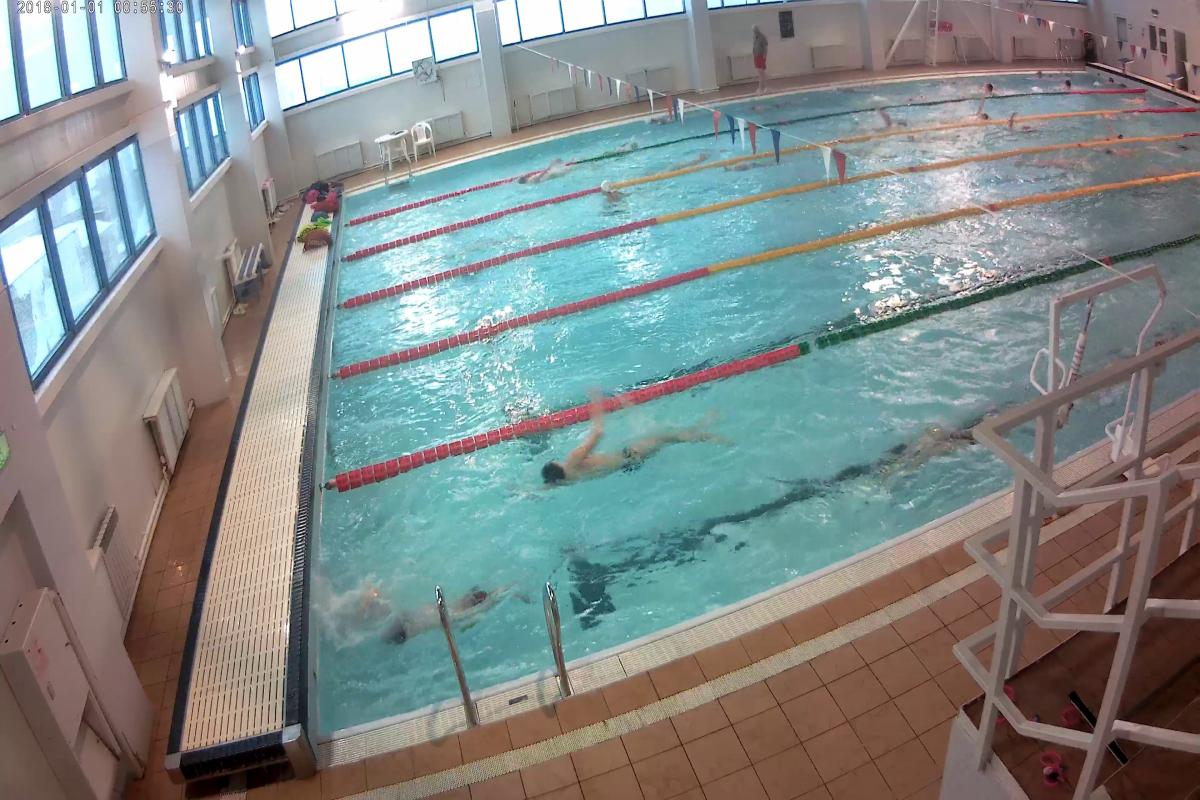swimmer: (544, 426, 739, 488), (353, 582, 527, 634), (877, 404, 992, 470), (581, 177, 644, 201)
